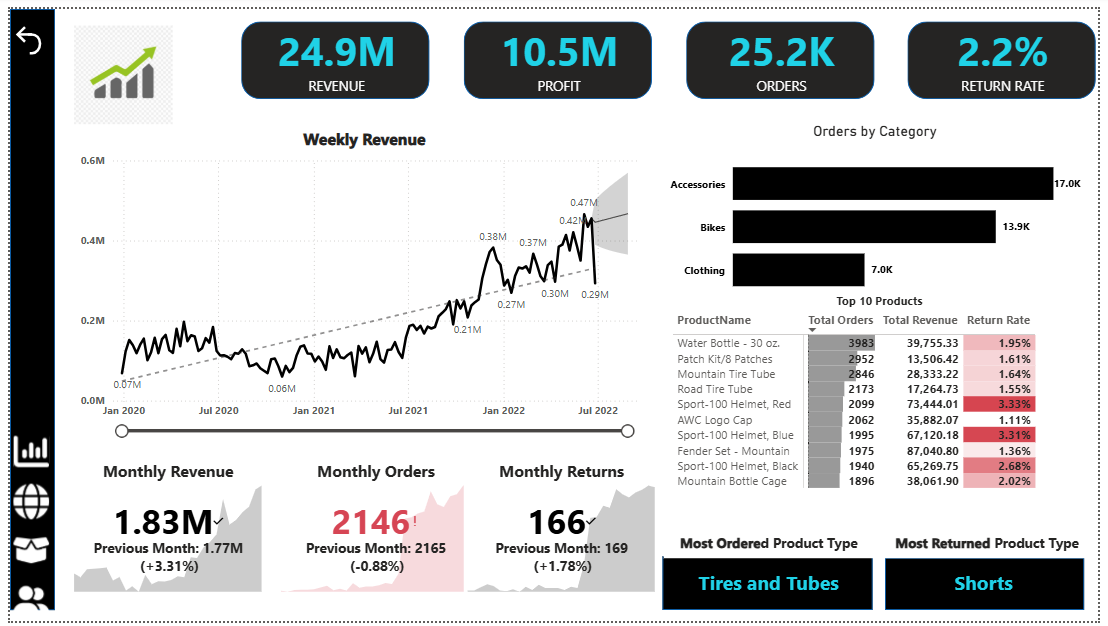

Layout of this report page (visuals, bound fields, positions):
{"tool":"powerbi","page":{"name":"Exec Dashboards ","canvas":[1280,720],"ordinal":0},"visuals":[{"type":"card","fields":{"Values":["Measure_Table.Total Revenue"]},"box":[301.8,3.6,165.7,111.4],"z":0,"group":"g2"},{"type":"image","box":[70.9,14.5,125.5,125.5],"z":0},{"type":"shape","box":[272.7,14.5,221.4,91.4],"z":0,"group":"g1"},{"type":"card","fields":{"Values":["Measure_Table.Total Profit"]},"box":[563.2,3.6,165.7,111.4],"z":1000,"group":"g2"},{"type":"group","id":"g1","title":"KPI  CARDS","box":[272.7,14.5,1007.3,90.9],"z":1000},{"type":"shape","box":[534.1,14.5,221.4,91.4],"z":1000,"group":"g1"},{"type":"group","id":"g2","title":" KPI VALUE ","box":[91.4,3.6,1160.4,394.8],"z":2000},{"type":"card","fields":{"Values":["Measure_Table.Total Orders"]},"box":[824.6,3.6,165.7,111.4],"z":2000,"group":"g2"},{"type":"shape","box":[795.6,14.5,221.4,91.4],"z":2000,"group":"g1"},{"type":"card","fields":{"Values":["Measure_Table.Return Rate"]},"box":[1086.1,3.6,165.7,111.4],"z":3000,"group":"g2"},{"type":"shape","box":[1057,14.5,221.4,91.4],"z":3000,"group":"g1"},{"type":"lineChart","title":"Weekly Revenue","fields":{"Category":["Calendar Lookup.Start of Week"],"Y":["Measure_Table.Total Revenue"]},"box":[78.2,140,678.2,367.3],"z":3000},{"type":"kpi","title":"Monthly Revenue","fields":{"Indicator":["Measure_Table.Total Revenue"],"TrendLine":["Calendar Lookup.Start of Month"],"Goal":["Measure_Table.Previous Month Revenue"]},"box":[70.9,530.9,230.9,160],"z":4000},{"type":"shape","box":[0,0,52.9,707.4],"z":5000},{"type":"kpi","title":"Monthly Orders","fields":{"TrendLine":["Calendar Lookup.Start of Month"],"Indicator":["Measure_Table.Total Orders"],"Goal":["Measure_Table.Previous Month Orders"]},"box":[314.3,531.4,231.4,160],"z":6000},{"type":"kpi","title":"Monthly Returns","fields":{"TrendLine":["Calendar Lookup.Start of Month"],"Indicator":["Measure_Table.Total Returns"],"Goal":["Measure_Table.Previous month return"]},"box":[534.3,531.4,230,160],"z":7000},{"type":"barChart","title":"Orders by Category","fields":{"Category":["Categories Lookup.CategoryName"],"Y":["Measure_Table.Total Orders"]},"box":[770,134.3,494.3,220],"z":8000},{"type":"pivotTable","title":"Top 10 Products","fields":{"Rows":["Product Lookup.ProductName"],"Values":["Measure_Table.Total Orders","Measure_Table.Total Revenue","Measure_Table.Return Rate"]},"box":[775.7,334.3,495.7,251.4],"z":9000},{"type":"card","box":[91.4,311.3,608.6,87.1],"z":9001,"group":"g2"},{"type":"shape","box":[768,644.6,247.1,62.9],"z":10000},{"type":"card","fields":{"Values":["Min(Product Subcategories Lookup.SubcategoryName)"]},"box":[795.7,657.1,194.3,38.6],"z":11000},{"type":"textbox","box":[768.6,611.4,247.1,34.3],"z":12000},{"type":"shape","box":[1030,645.7,234.3,61.4],"z":13000},{"type":"card","fields":{"Values":["Min(Product Subcategories Lookup.SubcategoryName)"]},"box":[1048,656.9,194.3,38.6],"z":14000},{"type":"textbox","box":[1029.4,611.1,240,34.3],"z":15000},{"type":"actionButton","box":[0,14.3,52.9,44.3],"z":16000},{"type":"actionButton","box":[0,495.6,52.9,50],"z":17000},{"type":"actionButton","box":[0,612.3,52.9,50],"z":18000},{"type":"actionButton","box":[0,670,52.9,50],"z":19000},{"type":"actionButton","box":[0,553.9,52.9,50],"z":20000}]}

Visuals, with their boxes on the page's 1280x720 design canvas (x1, y1, x2, y2). These are canvas units, not pixel positions in the 1108x626 screenshot, which may show the page scaled, cropped or inside an application window:
card - Measure_Table.Total Revenue: [left=302, top=4, right=468, bottom=115]
image: [left=71, top=14, right=196, bottom=140]
shape: [left=273, top=14, right=494, bottom=106]
card - Measure_Table.Total Profit: [left=563, top=4, right=729, bottom=115]
"KPI  CARDS" group: [left=273, top=14, right=1280, bottom=105]
shape: [left=534, top=14, right=756, bottom=106]
" KPI VALUE " group: [left=91, top=4, right=1252, bottom=398]
card - Measure_Table.Total Orders: [left=825, top=4, right=990, bottom=115]
shape: [left=796, top=14, right=1017, bottom=106]
card - Measure_Table.Return Rate: [left=1086, top=4, right=1252, bottom=115]
shape: [left=1057, top=14, right=1278, bottom=106]
"Weekly Revenue" lineChart: [left=78, top=140, right=756, bottom=507]
"Monthly Revenue" kpi: [left=71, top=531, right=302, bottom=691]
shape: [left=0, top=0, right=53, bottom=707]
"Monthly Orders" kpi: [left=314, top=531, right=546, bottom=691]
"Monthly Returns" kpi: [left=534, top=531, right=764, bottom=691]
"Orders by Category" barChart: [left=770, top=134, right=1264, bottom=354]
"Top 10 Products" pivotTable: [left=776, top=334, right=1271, bottom=586]
card: [left=91, top=311, right=700, bottom=398]
shape: [left=768, top=645, right=1015, bottom=708]
card - Min(Product Subcategories Lookup.SubcategoryName): [left=796, top=657, right=990, bottom=696]
textbox: [left=769, top=611, right=1016, bottom=646]
shape: [left=1030, top=646, right=1264, bottom=707]
card - Min(Product Subcategories Lookup.SubcategoryName): [left=1048, top=657, right=1242, bottom=696]
textbox: [left=1029, top=611, right=1269, bottom=645]
actionButton: [left=0, top=14, right=53, bottom=59]
actionButton: [left=0, top=496, right=53, bottom=546]
actionButton: [left=0, top=612, right=53, bottom=662]
actionButton: [left=0, top=670, right=53, bottom=720]
actionButton: [left=0, top=554, right=53, bottom=604]
